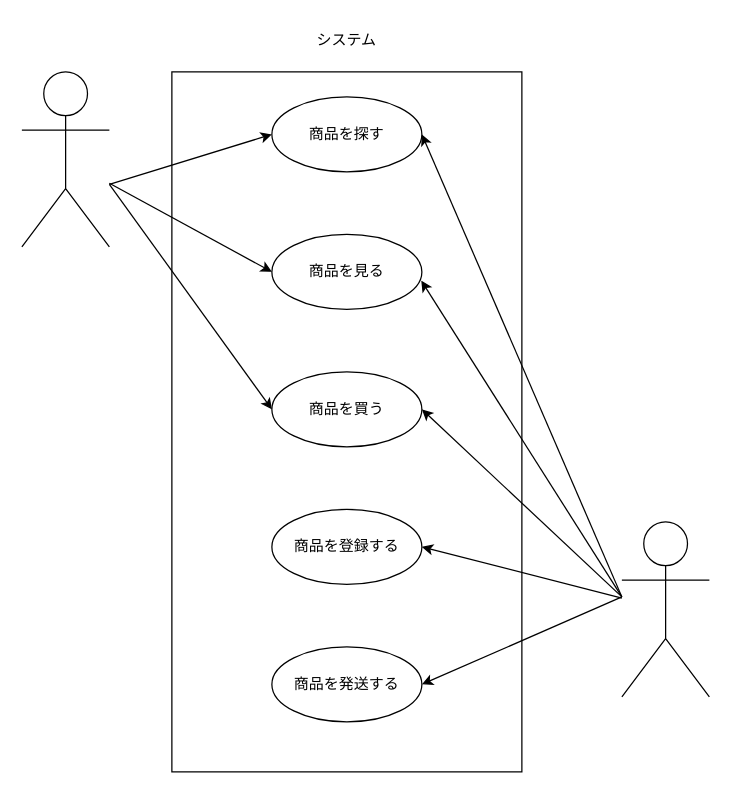
Some shapes in this 731 by 794 pixel diagram are drawn without their labels. Here are the shapes that lost their labels. From the top down, the centre of each, then its label:
At [65,159]: "購入者".
At [665,609]: "管理者".
